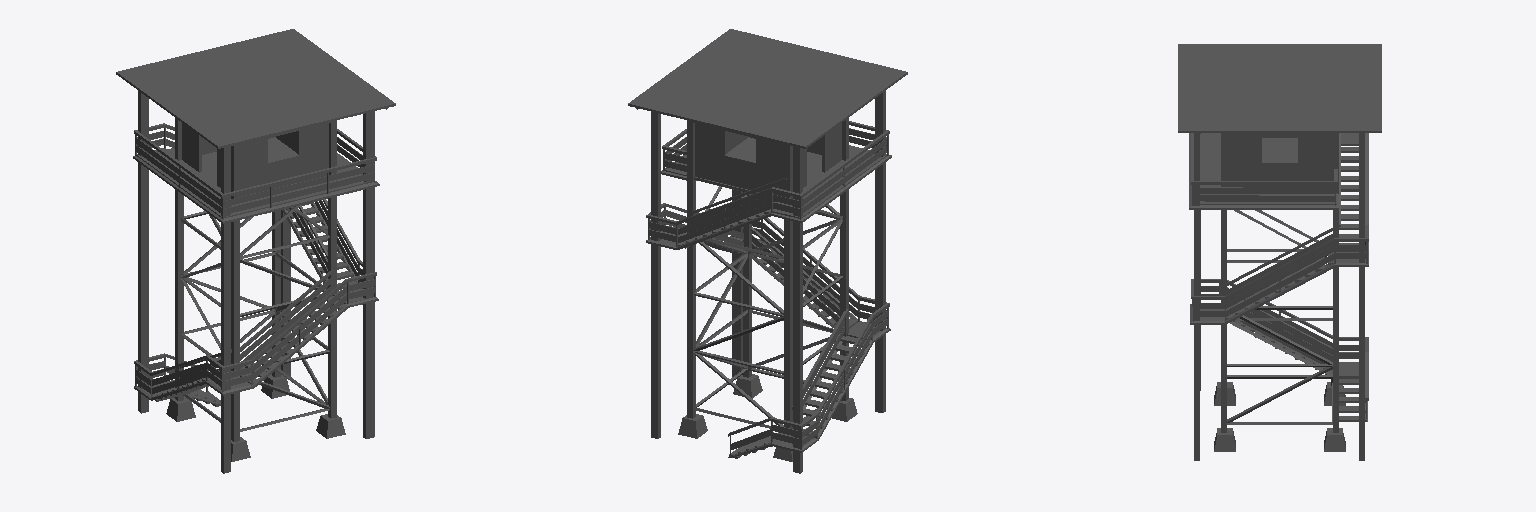
The model's file is tower.obj.
The picture shows the model from 3 angles: view 1: azimuth 30°, elevation 25°; view 2: azimuth 150°, elevation 25°; view 3: azimuth 270°, elevation 25°; orthographic projection.
Parts seen in each view (by area): view 1: watchtowerHigh_watchtower; view 2: watchtowerHigh_watchtower; view 3: watchtowerHigh_watchtower.
Boxes of the visible parts, <box> form: watchtowerHigh_watchtower: <box>116,29,395,473</box>; watchtowerHigh_watchtower: <box>628,29,907,473</box>; watchtowerHigh_watchtower: <box>1178,44,1381,460</box>.
Size of the model in its own units: 24.36 by 44.13 by 24.36.